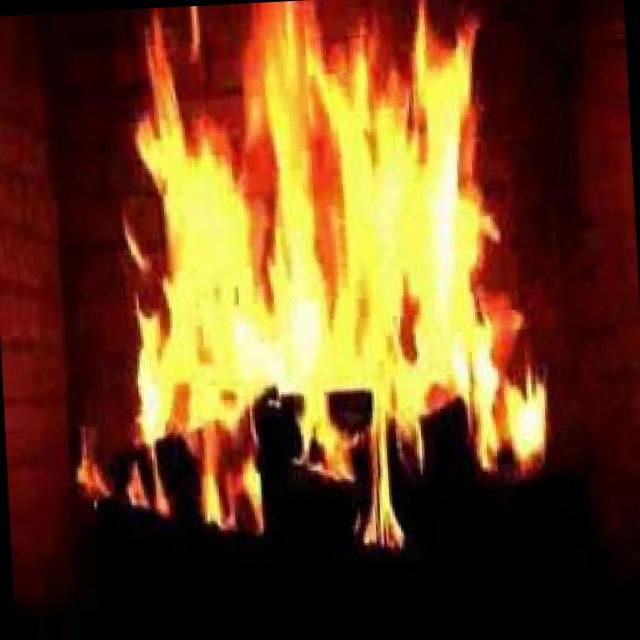Fire: (137, 42, 539, 486)
